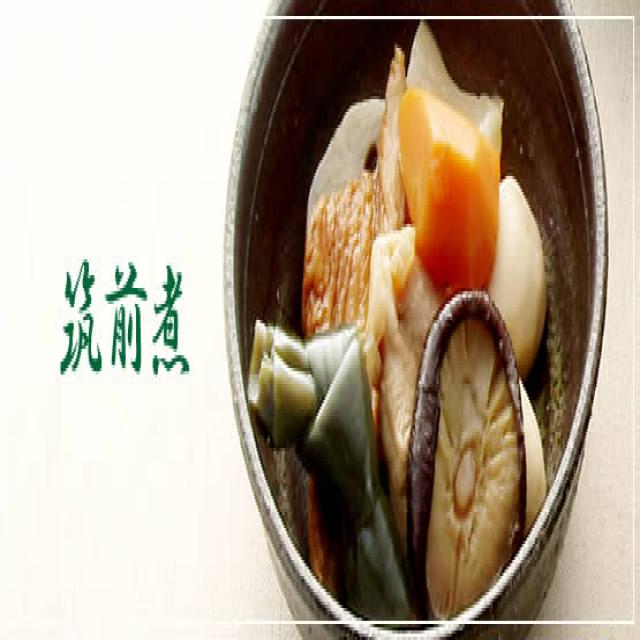鸡肉料理 含炸鸡: (215, 32, 610, 576)
